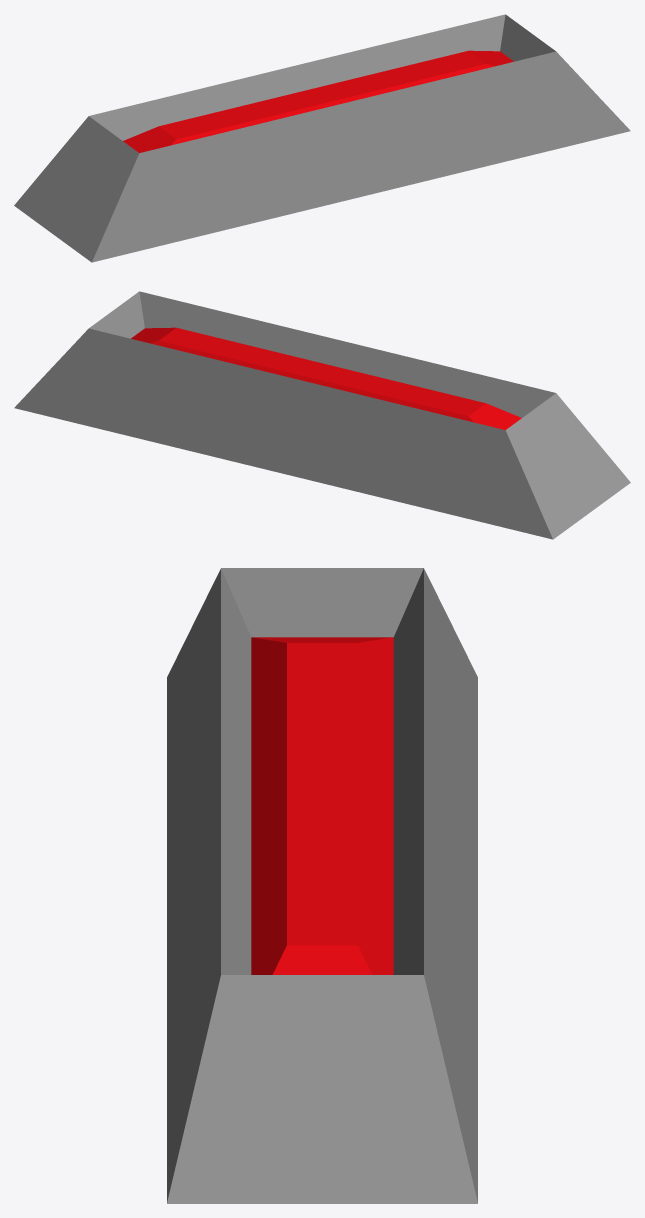
File: SM_LightNub.fbx
3 views of the same model, one above another, from view 1: azimuth 30°, elevation 25°; view 2: azimuth 150°, elevation 25°; view 3: azimuth 270°, elevation 25° (orthographic). The views are drawn at different scales.
Visible parts, largest first — view 1: Plane; view 2: Plane; view 3: Plane.
Boxes of the visible parts, left/top/right/bottom form: Plane: left=14, top=14, right=630, bottom=262; Plane: left=14, top=291, right=630, bottom=539; Plane: left=167, top=568, right=477, bottom=1203.
Bounding box in the file's own units: 100 × 15 × 25.
